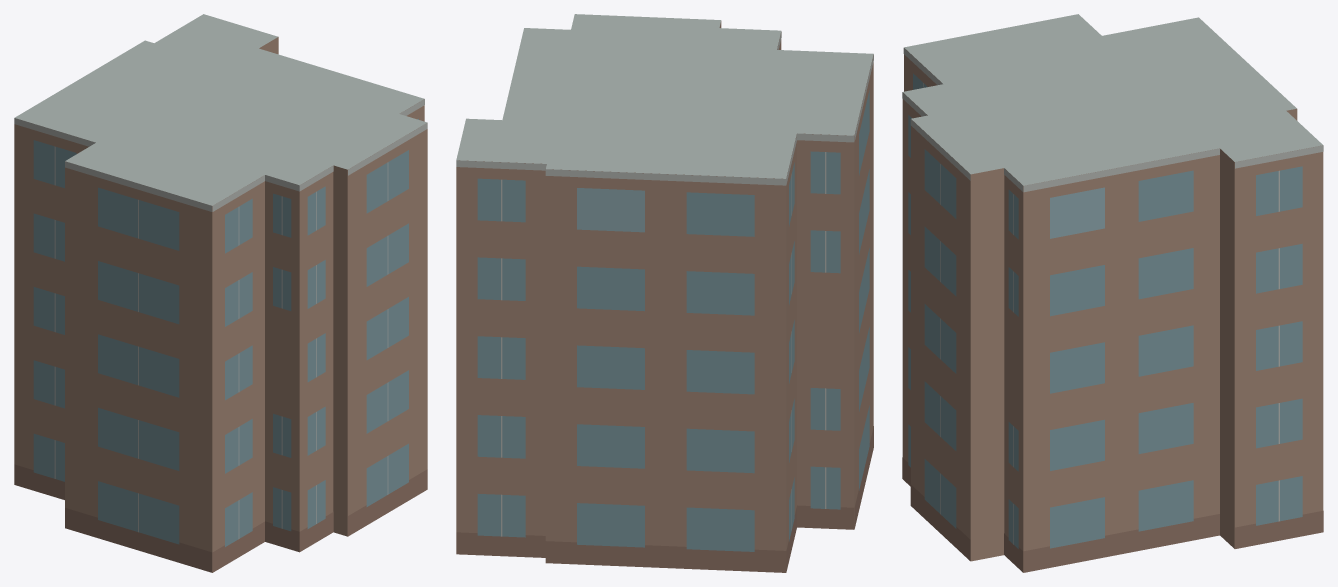
Rendered from survey-upis-32624801.glb.
3 views of the same model, side by side, from view 1: azimuth 30°, elevation 25°; view 2: azimuth 150°, elevation 25°; view 3: azimuth 270°, elevation 25° (orthographic). The views are drawn at different scales.
Visible parts, largest first — view 1: survey-upis-32624801.tmp; view 2: survey-upis-32624801.tmp; view 3: survey-upis-32624801.tmp.
Part boxes in pixels (bbox=[...]): survey-upis-32624801.tmp: bbox=[14, 14, 427, 572]; survey-upis-32624801.tmp: bbox=[456, 14, 873, 572]; survey-upis-32624801.tmp: bbox=[902, 14, 1323, 572].
Size of the model in its own units: 13.62 by 14.3 by 14.1.
